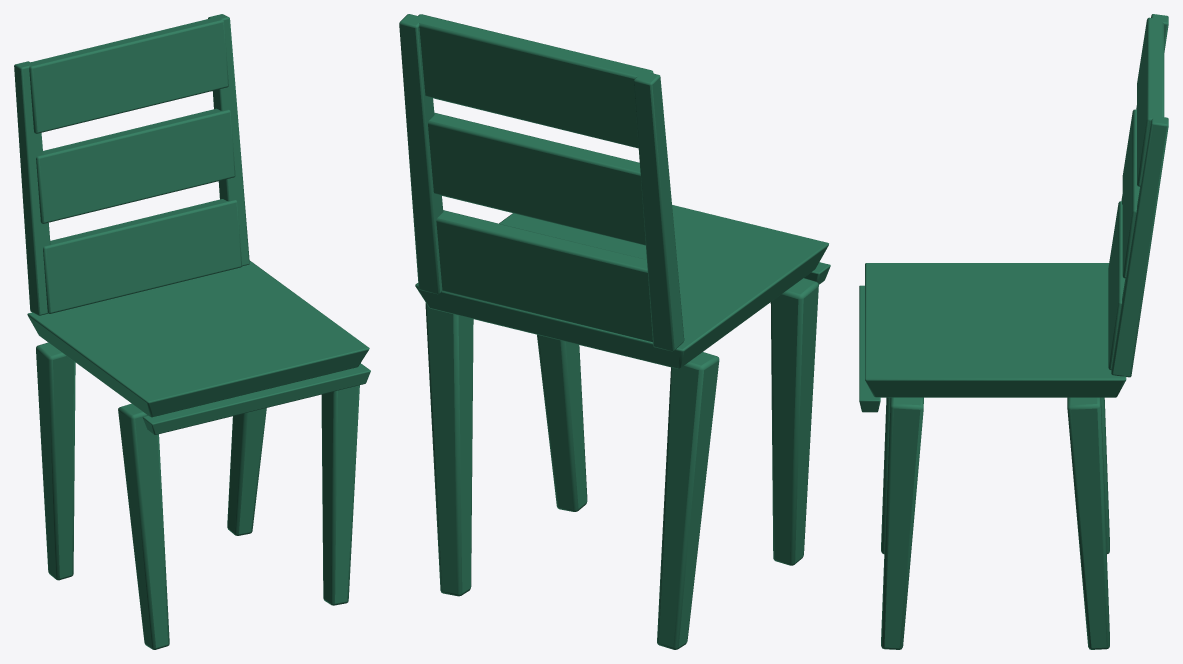
File: SM_PlasticChair_Green.glb
3 views of the same model, side by side, from view 1: azimuth 30°, elevation 25°; view 2: azimuth 150°, elevation 25°; view 3: azimuth 270°, elevation 25° (orthographic). The views are drawn at different scales.
Parts seen in each view (by area): view 1: SM_PlasticChair; view 2: SM_PlasticChair; view 3: SM_PlasticChair.
Part boxes in pixels (bbox=[...]): SM_PlasticChair: bbox=[14, 14, 370, 649]; SM_PlasticChair: bbox=[399, 14, 830, 649]; SM_PlasticChair: bbox=[859, 14, 1168, 649].
Bounding box in the file's own units: 0.3915 × 0.8036 × 0.4238.
